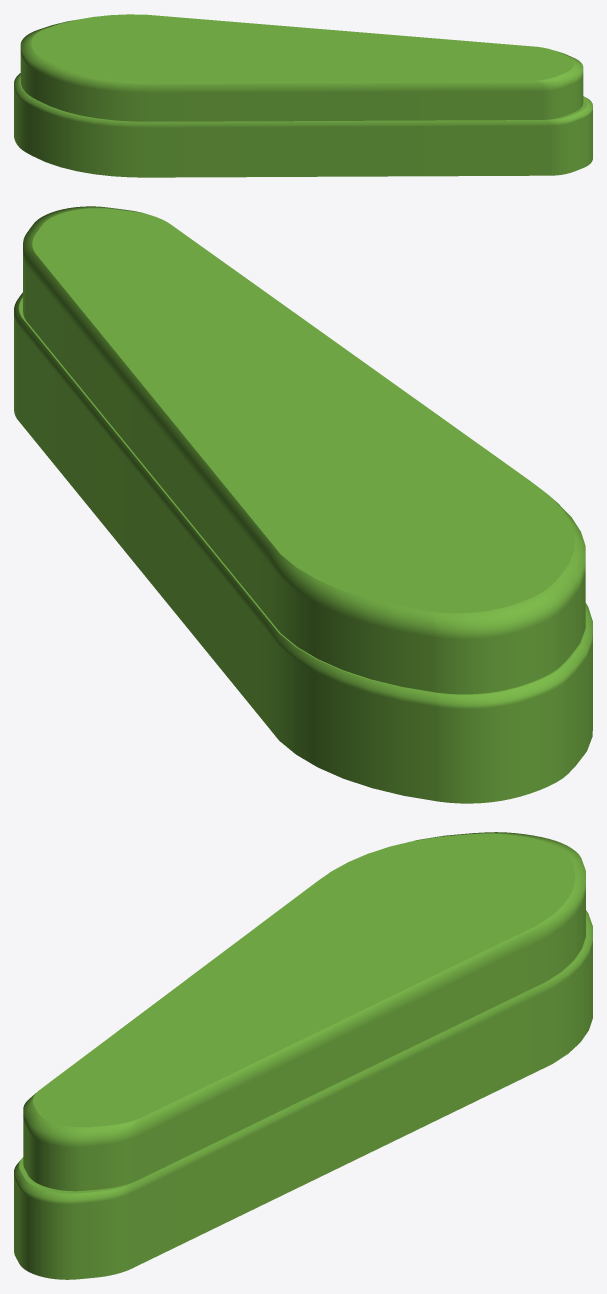
File: PaletaDere.obj
3 views of the same model, one above another, from view 1: azimuth 30°, elevation 25°; view 2: azimuth 150°, elevation 25°; view 3: azimuth 270°, elevation 25° (orthographic). The views are drawn at different scales.
Visible parts, largest first — view 1: Line01, Line02; view 2: Line01, Line02; view 3: Line01, Line02.
Part boxes in pixels (bbox=[...]): Line01: bbox=[20, 14, 583, 121]; Line02: bbox=[14, 73, 592, 177]; Line01: bbox=[23, 206, 585, 694]; Line02: bbox=[14, 292, 592, 803]; Line01: bbox=[23, 832, 585, 1191]; Line02: bbox=[14, 910, 592, 1279].
Bounding box in the file's own units: 7.63 × 1.61 × 5.95.
Materials: 1 (1 with a texture image).
